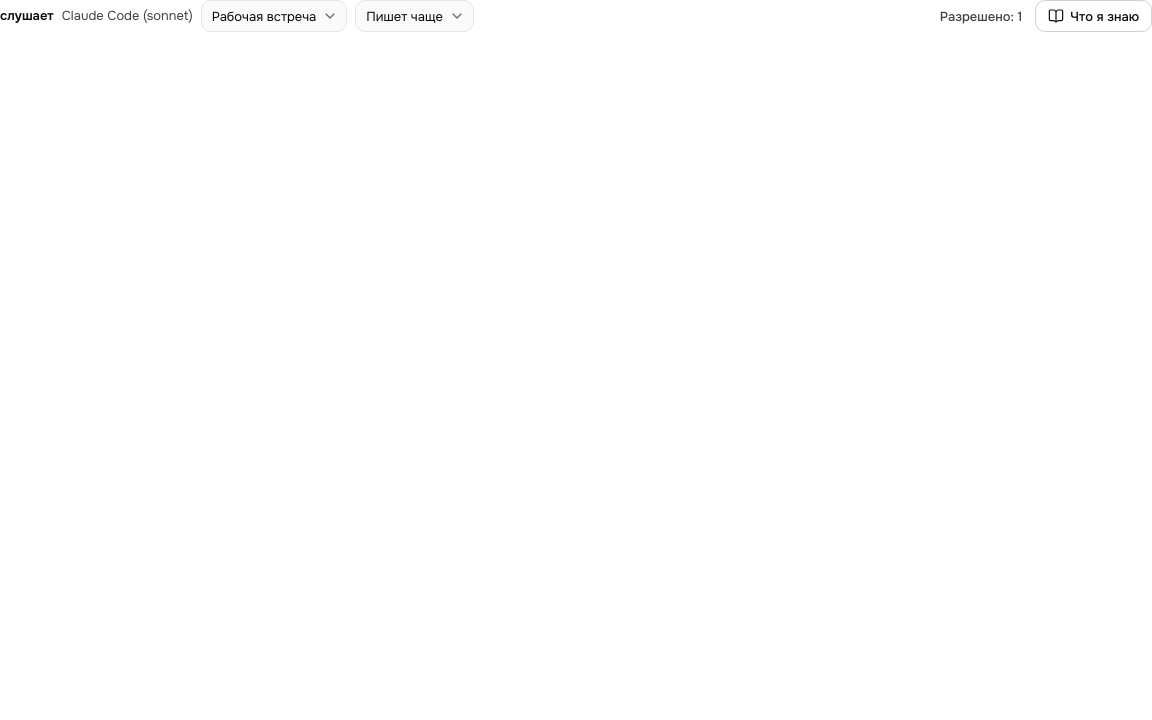
it: 0.5: шапка — состояние · модель · профиль и частота списками · «Разрешено: N» · «Что я знаю» (справка)
The width and height of the screenshot is (1152, 720).
Expected: the element named "Сессия ассистента" does not show "видит:", [0, 0, 1151, 32]
Expected: the element named "Сессия ассистента" does not show "может:", [0, 0, 1151, 32]
Click the button "Что я знаю".
click(1094, 16)  # box [1035, 0, 1151, 32]
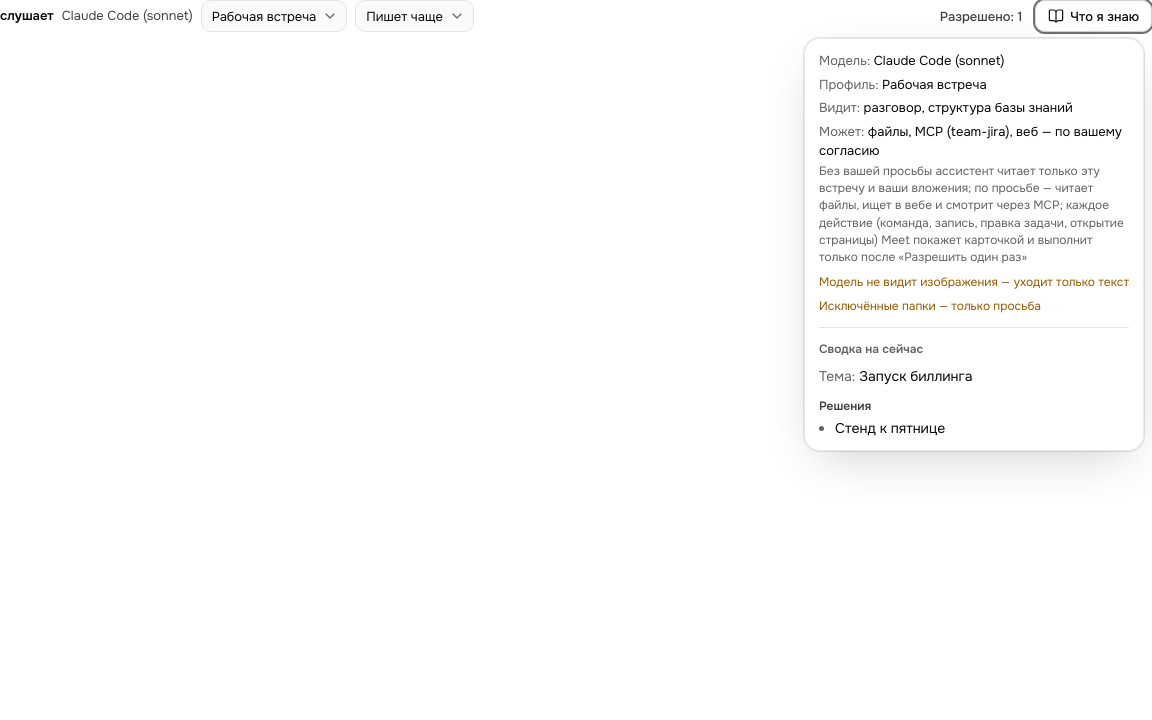
Expected: the dialog named "Что я знаю" shows "Может: файлы, MCP (team-jira), веб — по вашему согласию", [804, 38, 1144, 451]
Expected: the dialog named "Что я знаю" shows "Модель не видит изображения — уходит только текст", [819, 274, 1129, 290]
Expected: the dialog named "Что я знаю" shows "Исключённые папки — только просьба", [819, 298, 1041, 314]
